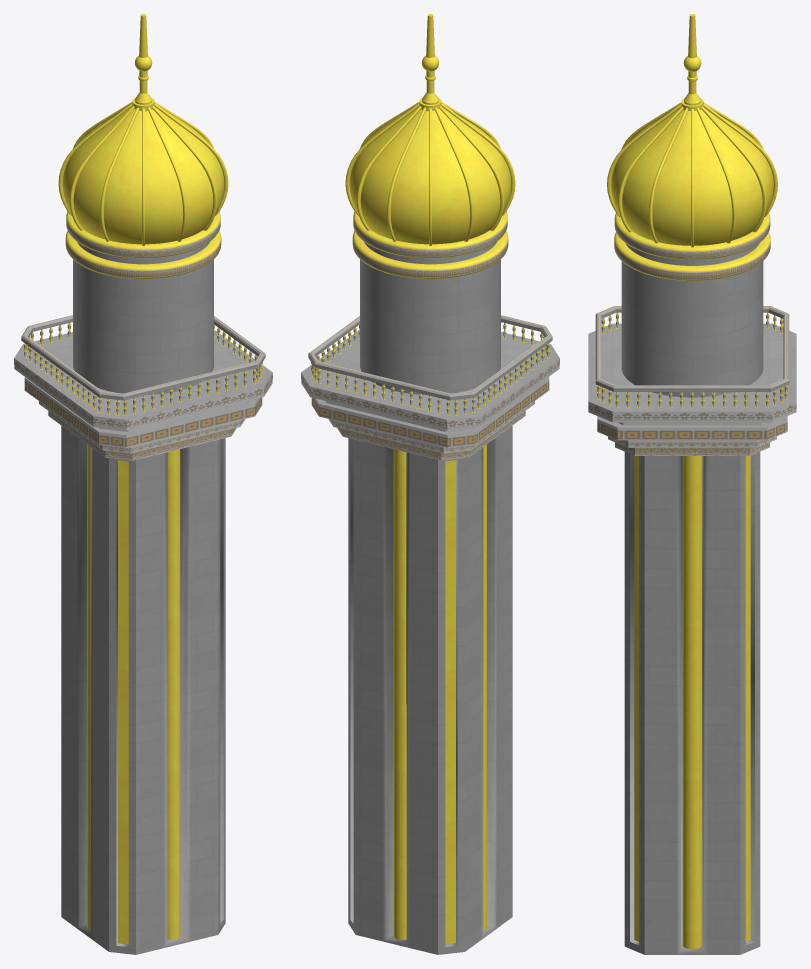
Rendered from SM_modules_kit_05.glb.
3 views of the same model, side by side, from view 1: azimuth 30°, elevation 25°; view 2: azimuth 150°, elevation 25°; view 3: azimuth 270°, elevation 25° (orthographic).
Parts seen in each view (by area): view 1: SM_modules_kit_05; view 2: SM_modules_kit_05; view 3: SM_modules_kit_05.
Boxes of the visible parts, x1=… form: SM_modules_kit_05: x1=14, y1=14, x2=272, y2=954; SM_modules_kit_05: x1=301, y1=14, x2=559, y2=954; SM_modules_kit_05: x1=588, y1=14, x2=796, y2=954.
Size of the model in its own units: 4.7 by 22.65 by 4.7.
Materials: 3 (3 with a texture image).
